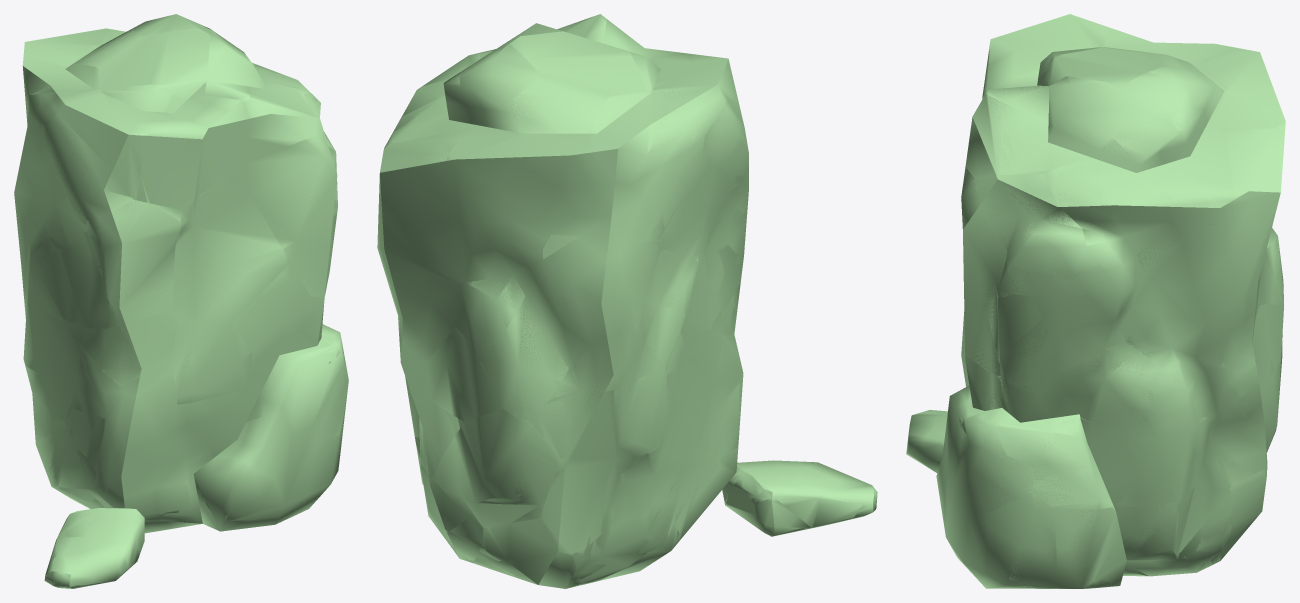
File: rock_1_cell.fbx
3 views of the same model, side by side, from view 1: azimuth 30°, elevation 25°; view 2: azimuth 150°, elevation 25°; view 3: azimuth 270°, elevation 25° (orthographic). The views are drawn at different scales.
Visible parts, largest first — view 1: rock_1.001, rock_1.001_cell.018, rock_1.001_cell.034, rock_1.001_cell.067, rock_1.001_cell.096, rock_1.001_cell.099, rock_1.001_cell.065, rock_1.001_cell.003, rock_1.001_cell.063, rock_1.001_cell.024, rock_1.001_cell.079, rock_1.001_cell.085 (+16 smaller); view 2: rock_1.001, rock_1.001_cell.073, rock_1.001_cell.043, rock_1.001_cell.021, rock_1.001_cell.065, rock_1.001_cell.017, rock_1.001_cell.039, rock_1.001_cell.086, rock_1.001_cell.079, rock_1.001_cell.090, rock_1.001_cell.075, rock_1.001_cell.003 (+29 smaller); view 3: rock_1.001, rock_1.001_cell, rock_1.001_cell.063, rock_1.001_cell.041, rock_1.001_cell.049, rock_1.001_cell.067, rock_1.001_cell.056, rock_1.001_cell.087, rock_1.001_cell.098, rock_1.001_cell.065, rock_1.001_cell.047, rock_1.001_cell.012 (+25 smaller).
Part boxes in pixels (x1=…): rock_1.001: x1=14, y1=14, x2=348, y2=588; rock_1.001_cell.018: x1=171, y1=174, x2=290, y2=322; rock_1.001_cell.034: x1=86, y1=200, x2=181, y2=321; rock_1.001_cell.067: x1=238, y1=137, x2=337, y2=257; rock_1.001_cell.096: x1=136, y1=93, x2=248, y2=209; rock_1.001_cell.099: x1=171, y1=318, x2=251, y2=404; rock_1.001_cell.065: x1=99, y1=28, x2=210, y2=100; rock_1.001_cell.003: x1=42, y1=114, x2=132, y2=219; rock_1.001_cell.063: x1=243, y1=77, x2=316, y2=163; rock_1.001_cell.024: x1=82, y1=311, x2=178, y2=386; rock_1.001_cell.079: x1=28, y1=307, x2=82, y2=419; rock_1.001_cell.085: x1=57, y1=88, x2=120, y2=171; rock_1.001: x1=377, y1=19, x2=877, y2=588; rock_1.001_cell.073: x1=433, y1=409, x2=559, y2=527; rock_1.001_cell.043: x1=540, y1=443, x2=684, y2=553; rock_1.001_cell.021: x1=529, y1=368, x2=664, y2=458; rock_1.001_cell.065: x1=505, y1=31, x2=646, y2=95; rock_1.001_cell.017: x1=482, y1=518, x2=580, y2=588; rock_1.001_cell.039: x1=408, y1=327, x2=501, y2=422; rock_1.001_cell.086: x1=587, y1=91, x2=669, y2=158; rock_1.001_cell.079: x1=664, y1=312, x2=722, y2=459; rock_1.001_cell.090: x1=499, y1=290, x2=591, y2=419; rock_1.001_cell.075: x1=577, y1=482, x2=677, y2=583; rock_1.001_cell.003: x1=703, y1=98, x2=748, y2=173; rock_1.001: x1=906, y1=26, x2=1285, y2=588; rock_1.001_cell: x1=1033, y1=418, x2=1165, y2=509; rock_1.001_cell.063: x1=965, y1=94, x2=1098, y2=179; rock_1.001_cell.041: x1=986, y1=76, x2=1129, y2=148; rock_1.001_cell.049: x1=975, y1=174, x2=1101, y2=298; rock_1.001_cell.067: x1=961, y1=167, x2=1020, y2=302; rock_1.001_cell.056: x1=1055, y1=506, x2=1124, y2=588; rock_1.001_cell.087: x1=1166, y1=113, x2=1234, y2=224; rock_1.001_cell.098: x1=1089, y1=502, x2=1178, y2=588; rock_1.001_cell.065: x1=1035, y1=48, x2=1160, y2=91; rock_1.001_cell.047: x1=1225, y1=128, x2=1284, y2=238; rock_1.001_cell.012: x1=1095, y1=138, x2=1176, y2=250.
Size of the model in its own units: 208 by 263 by 184.
